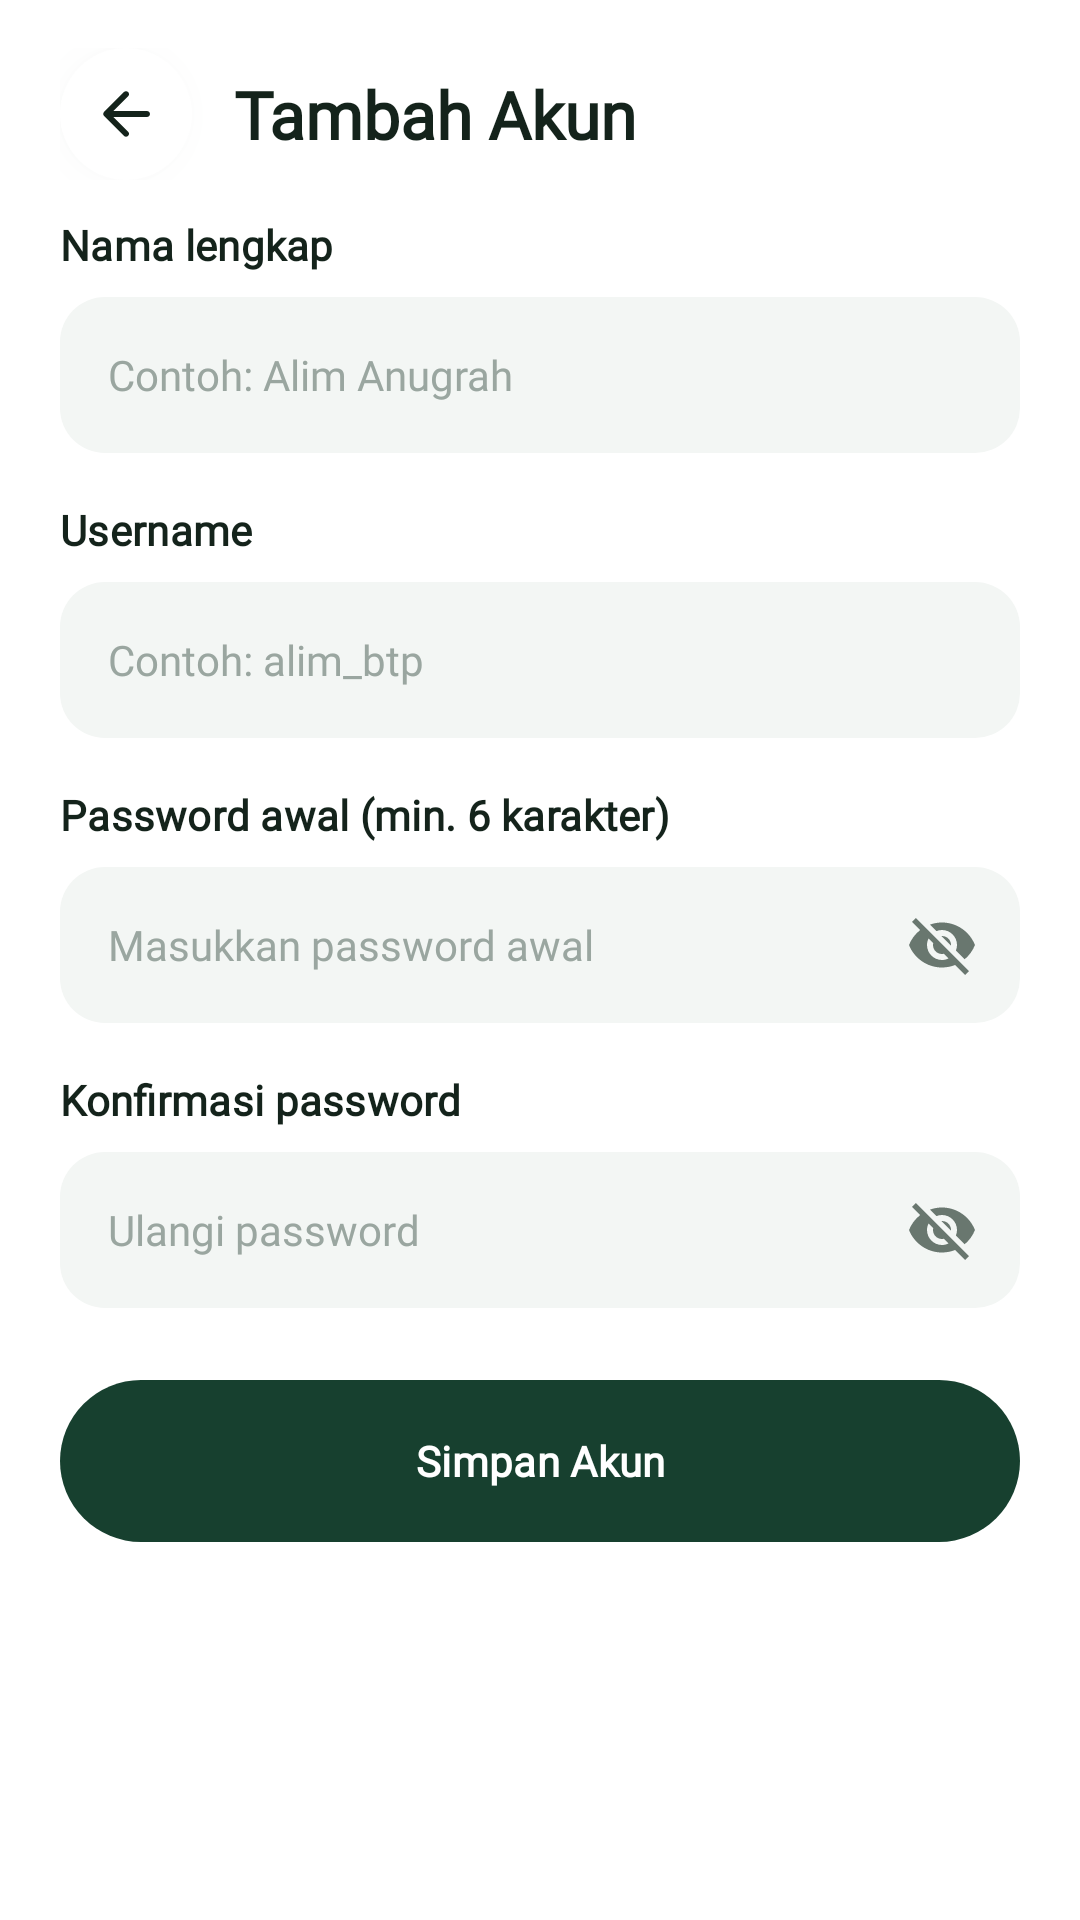

Locate icon controls on the screen. Image size 1080*1920, boxes as detection(x1, y1, x2, y2).
visibility off: detection(909, 918, 975, 975), detection(909, 1203, 975, 1260)
